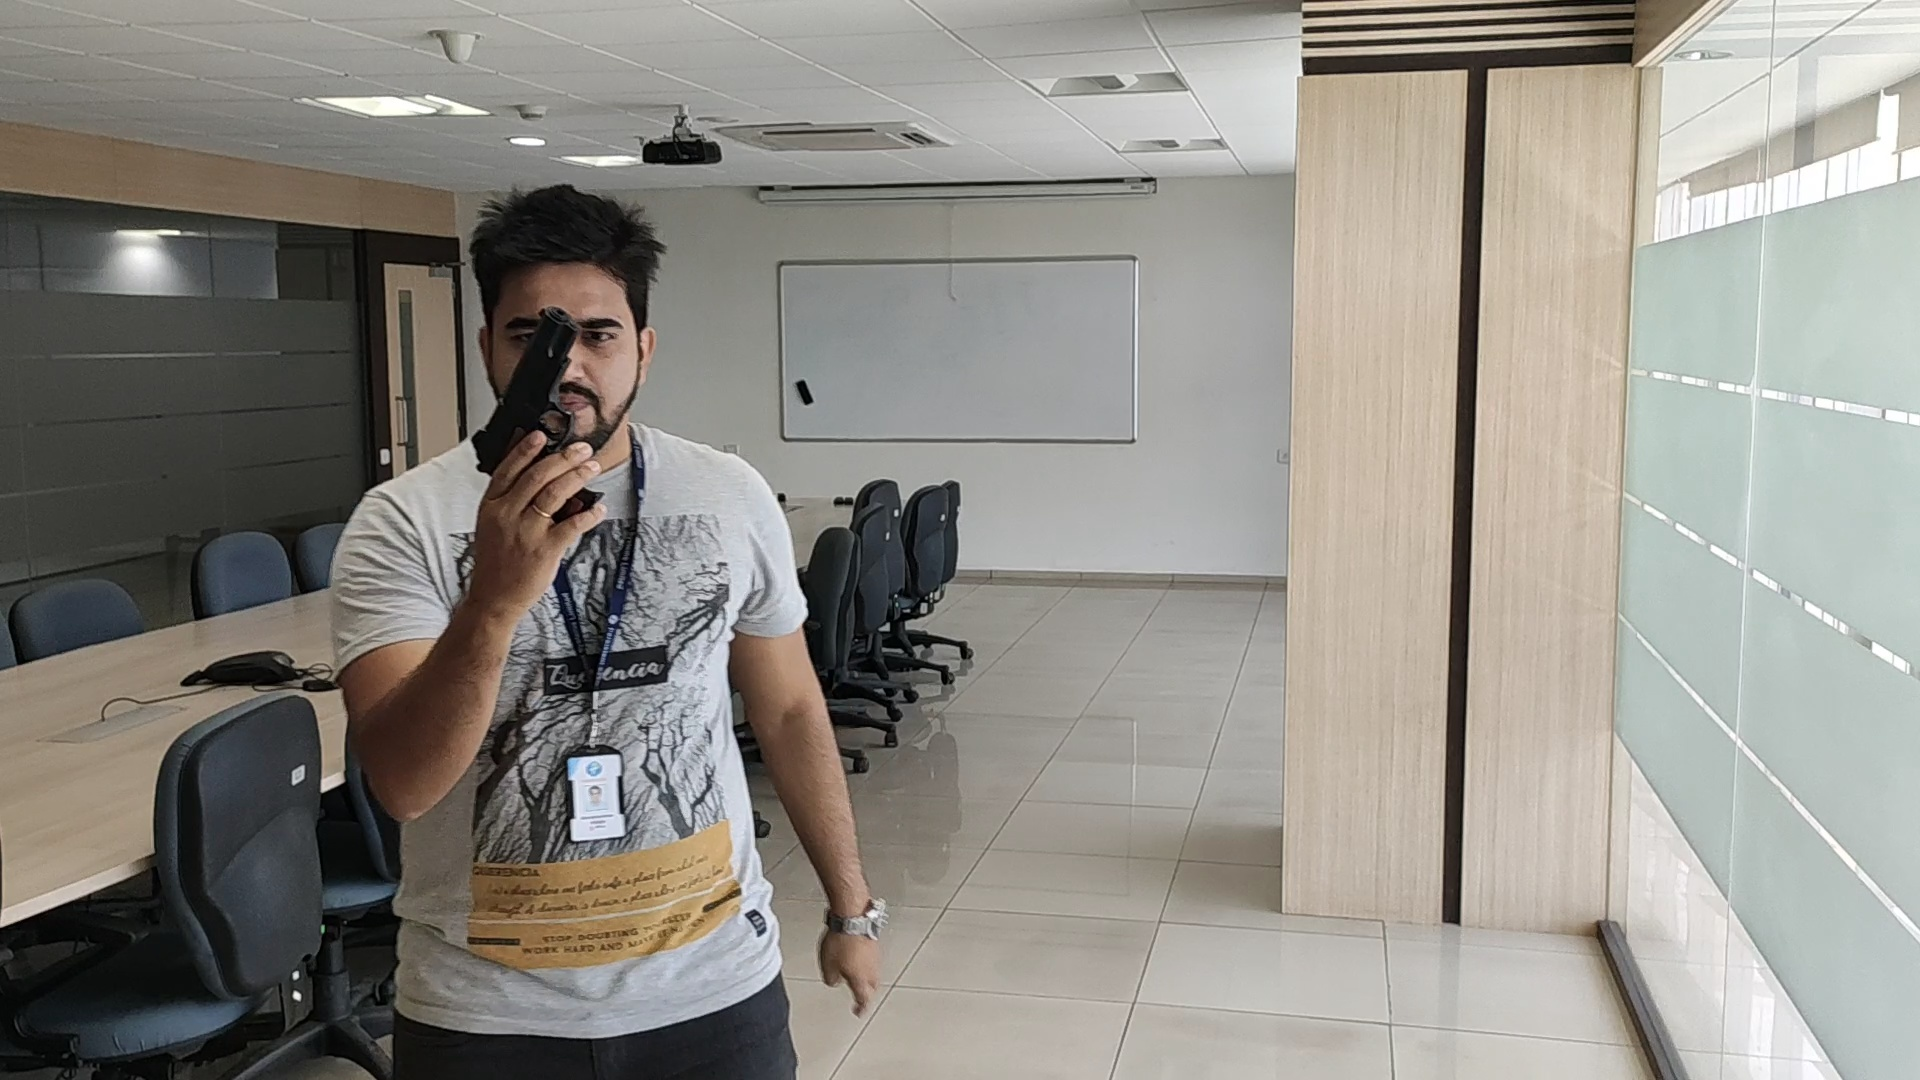gun: (471, 307, 580, 430)
